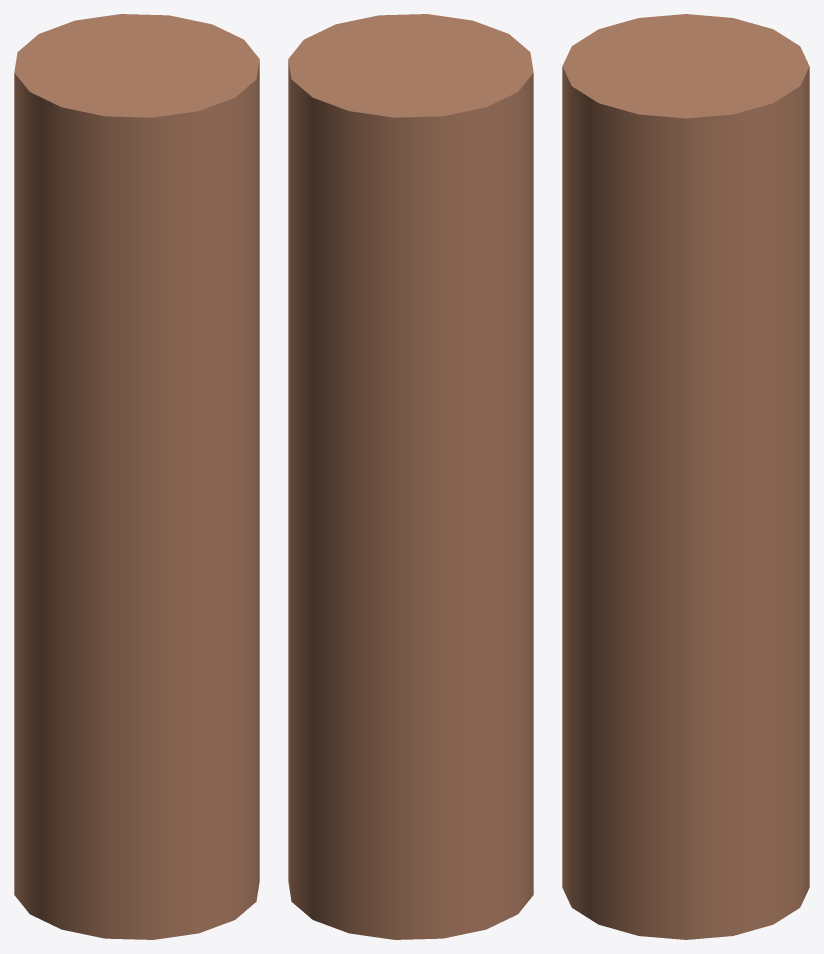
File: humanReference.fbx
3 views of the same model, side by side, from view 1: azimuth 30°, elevation 25°; view 2: azimuth 150°, elevation 25°; view 3: azimuth 270°, elevation 25° (orthographic).
Visible parts, largest first — view 1: Cylinder.005; view 2: Cylinder.005; view 3: Cylinder.005.
Part boxes in pixels (x1,y1,x2,y2): Cylinder.005: [14, 14, 259, 939]; Cylinder.005: [288, 14, 533, 939]; Cylinder.005: [562, 14, 809, 939].
Size of the model in its own units: 45 by 165 by 45.
